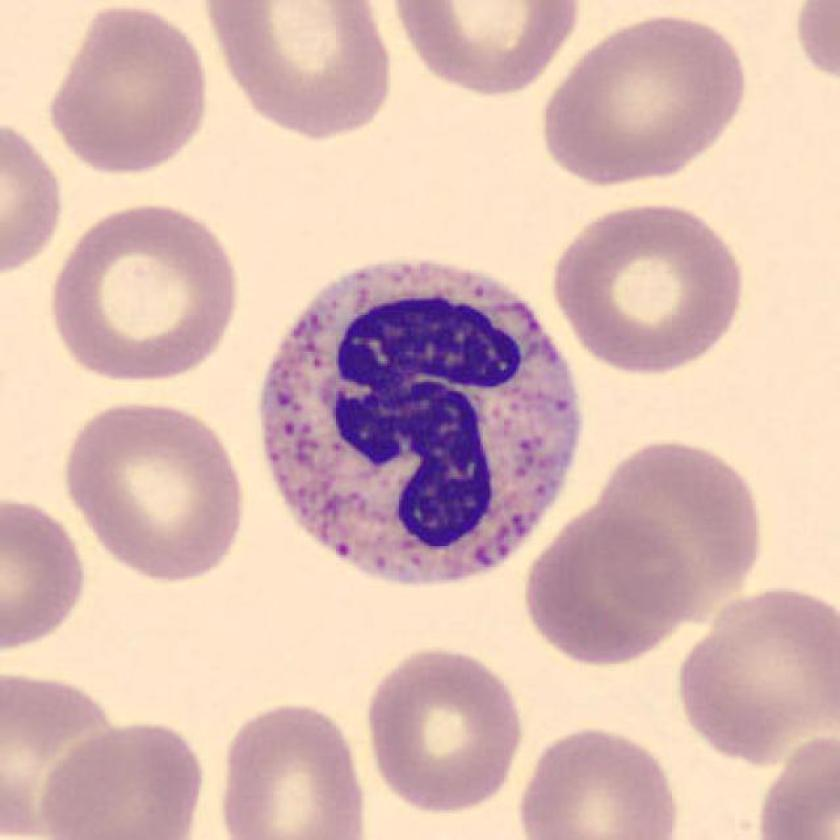neutrophil: (258, 262, 580, 585)
